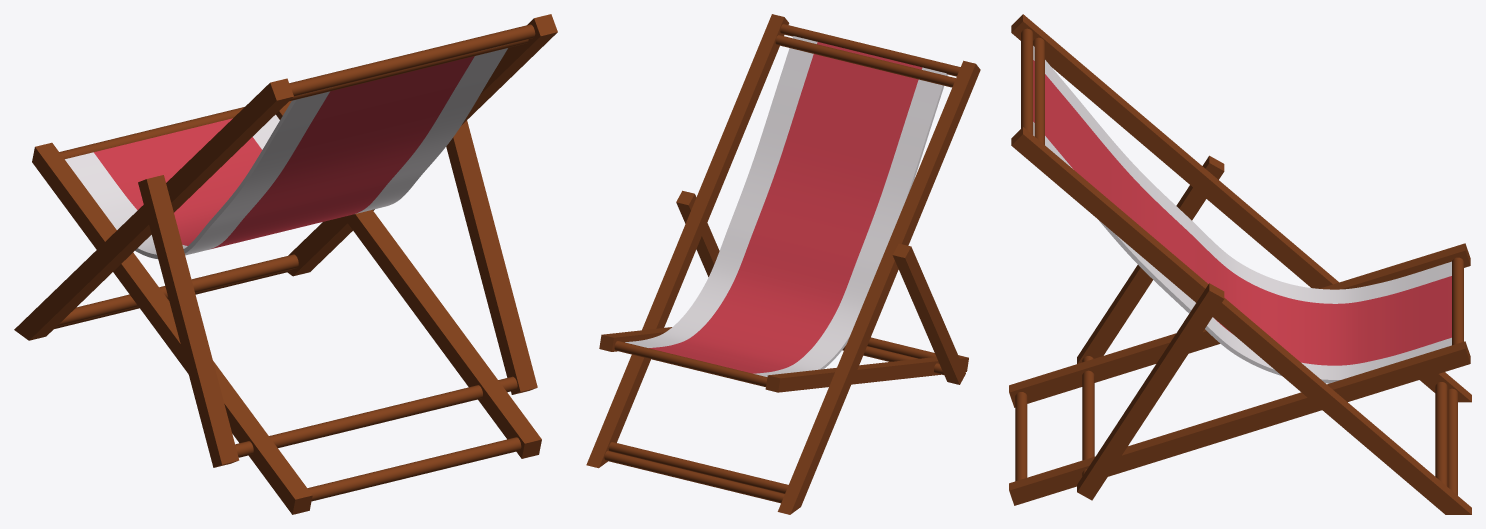
The picture shows the model from 3 angles, left to right: view 1: azimuth 30°, elevation 25°; view 2: azimuth 150°, elevation 25°; view 3: azimuth 270°, elevation 25°; orthographic projection. The views are drawn at different scales.
Parts seen in each view (by area): view 1: deckchair; view 2: deckchair; view 3: deckchair.
Boxes of the visible parts, box(x1,y1,x2,y2) form: deckchair: box(14, 14, 557, 514); deckchair: box(586, 14, 980, 514); deckchair: box(1009, 14, 1471, 514).
Bounding box in the file's own units: 0.548 × 0.721 × 0.794.
